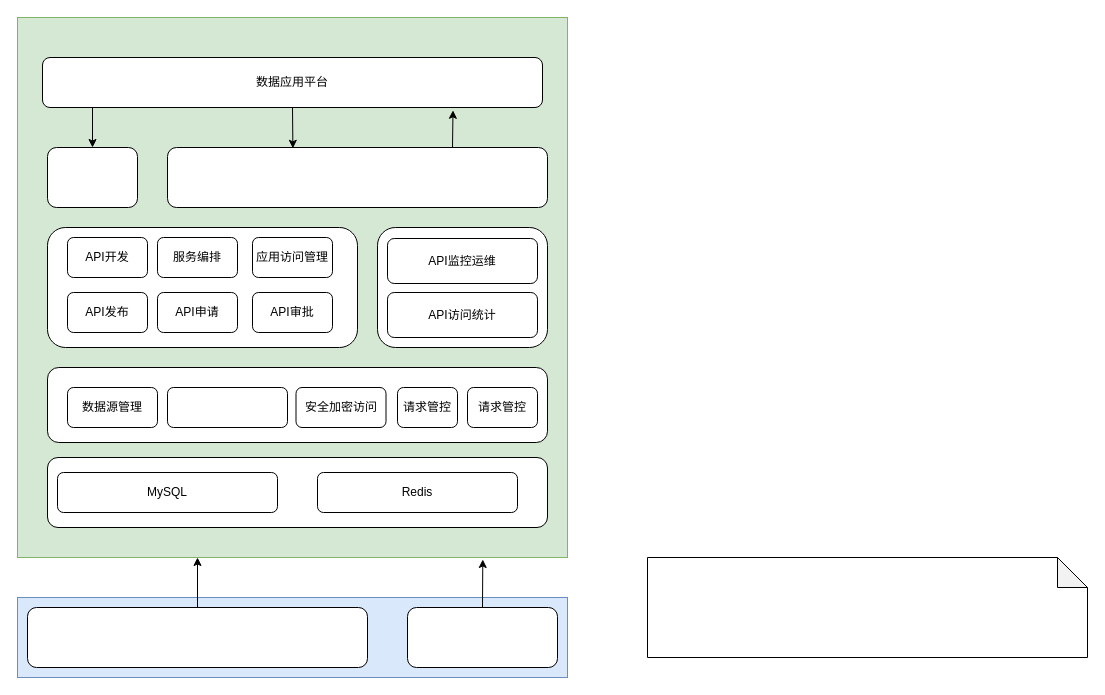
The diagram is 1105 pixels wide and 695 high, and some of its shapes have lost their labels. Each missing label, with the centre of its shape:
1、sql组合查询 2、多api组合查询，支持函数自定义编码 3、服务编排: (x=867, y=607)
API应用市场: (x=92, y=177)
API网关: (x=357, y=177)
MyBatis持久层访问: (x=227, y=407)
外部API: (x=482, y=637)
多数据源: (x=197, y=637)
